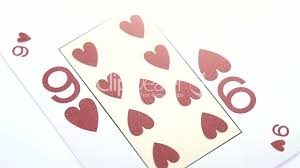NineOfHearts: (1, 8, 296, 168)
